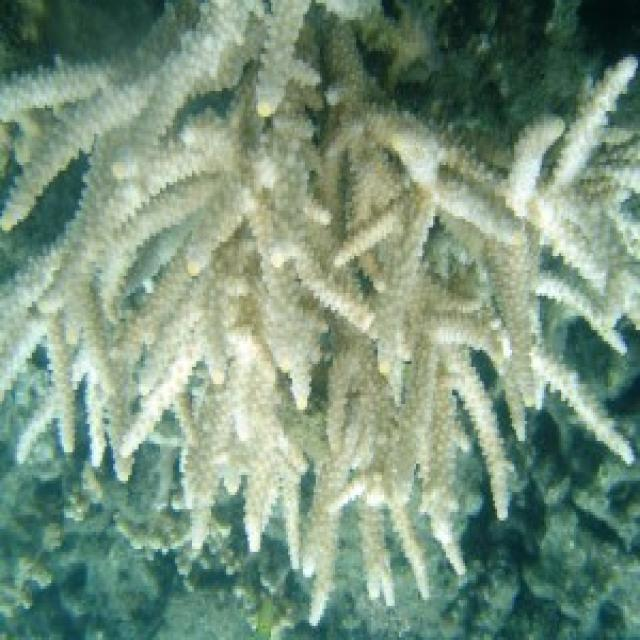Bleached: (1, 1, 640, 631)
Healthy: (482, 526, 640, 638)
